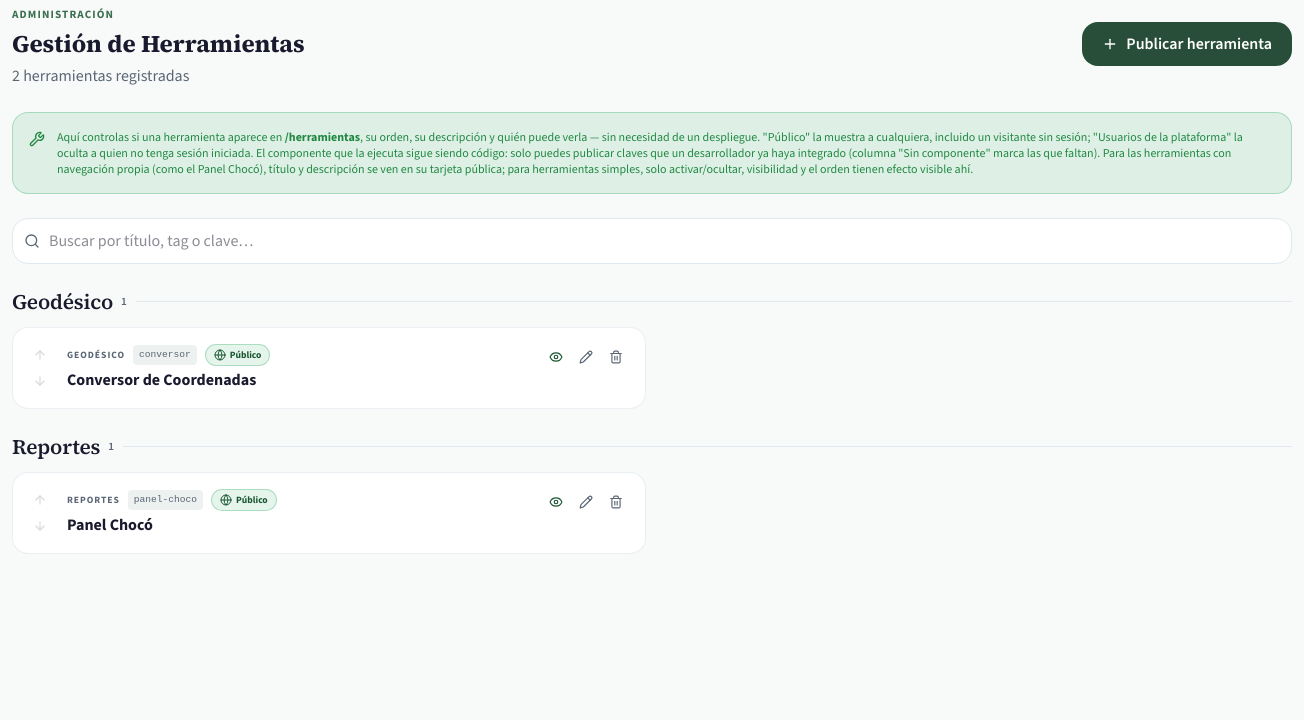
Test case: GestionHerramientas — buscador › filtra por tag
Step 1. Type "Reportes" into the field named "Buscar herramienta" → [652, 241], box [12,218,1292,264]
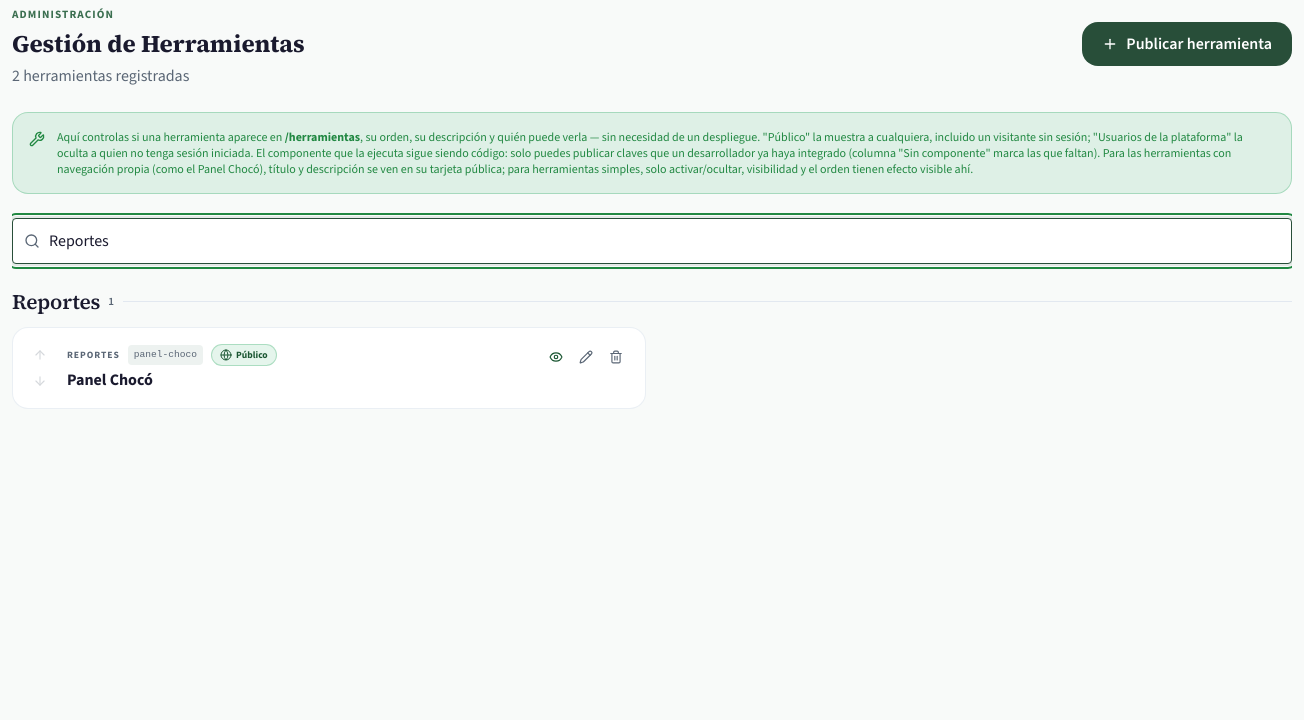
Expected: the heading "Panel Chocó" is shown, [67,369,153,390]
Expected: the heading "Conversor de Coordenadas" is gone
